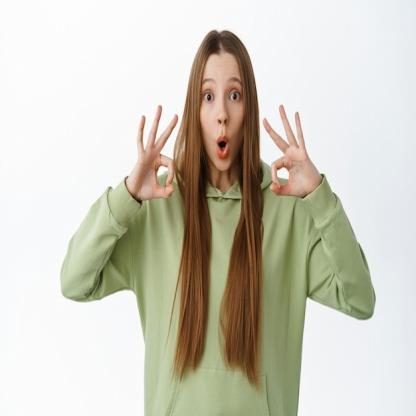ok: (260, 101, 318, 202), (130, 101, 180, 204)
